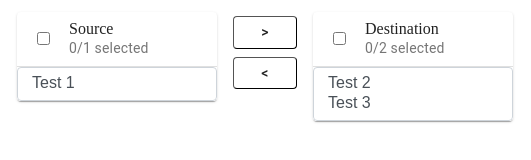
Testing OnClick Events › Testing Transfer › transfer some options to left when left have some selection already
Select "Test 1" in the dropdown with test id "select-multiple" below "Source" at (117, 84), box [17, 67, 217, 101]
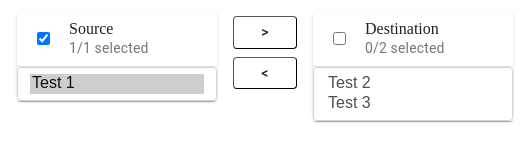
Expected: the text "0/2 selected" is shown, [365, 40, 444, 56]
Now the text "1/1 selected" is shown, box [69, 40, 148, 56]
Select "Test 3" in the dropdown with test id "select-multiple" below "Destination" at (413, 94), box [313, 67, 513, 121]
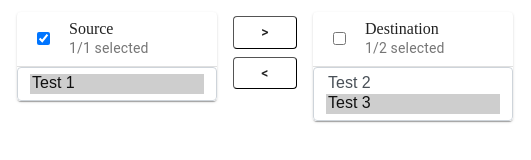
Now the text "1/2 selected" is shown, box [365, 40, 444, 56]
Click the button "<" at (265, 73), box [233, 56, 297, 89]
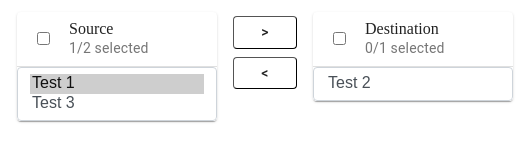
Now the text "1/2 selected" is shown, box [69, 40, 148, 56]
Now the text "0/1 selected" is shown, box [365, 40, 444, 56]
